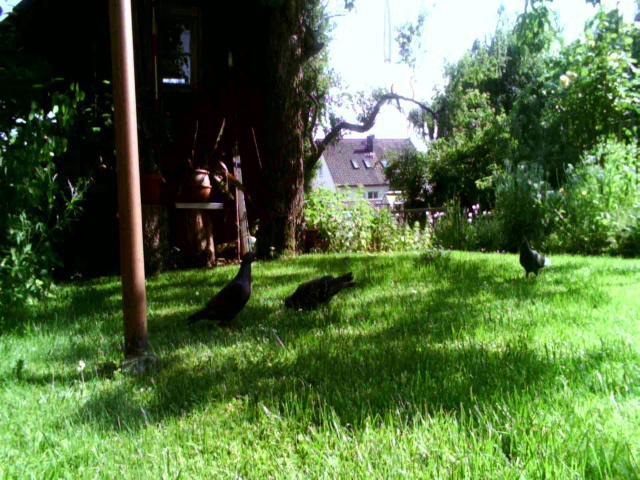Pigeon: (185, 249, 263, 330), (276, 267, 362, 313), (512, 230, 560, 284)
